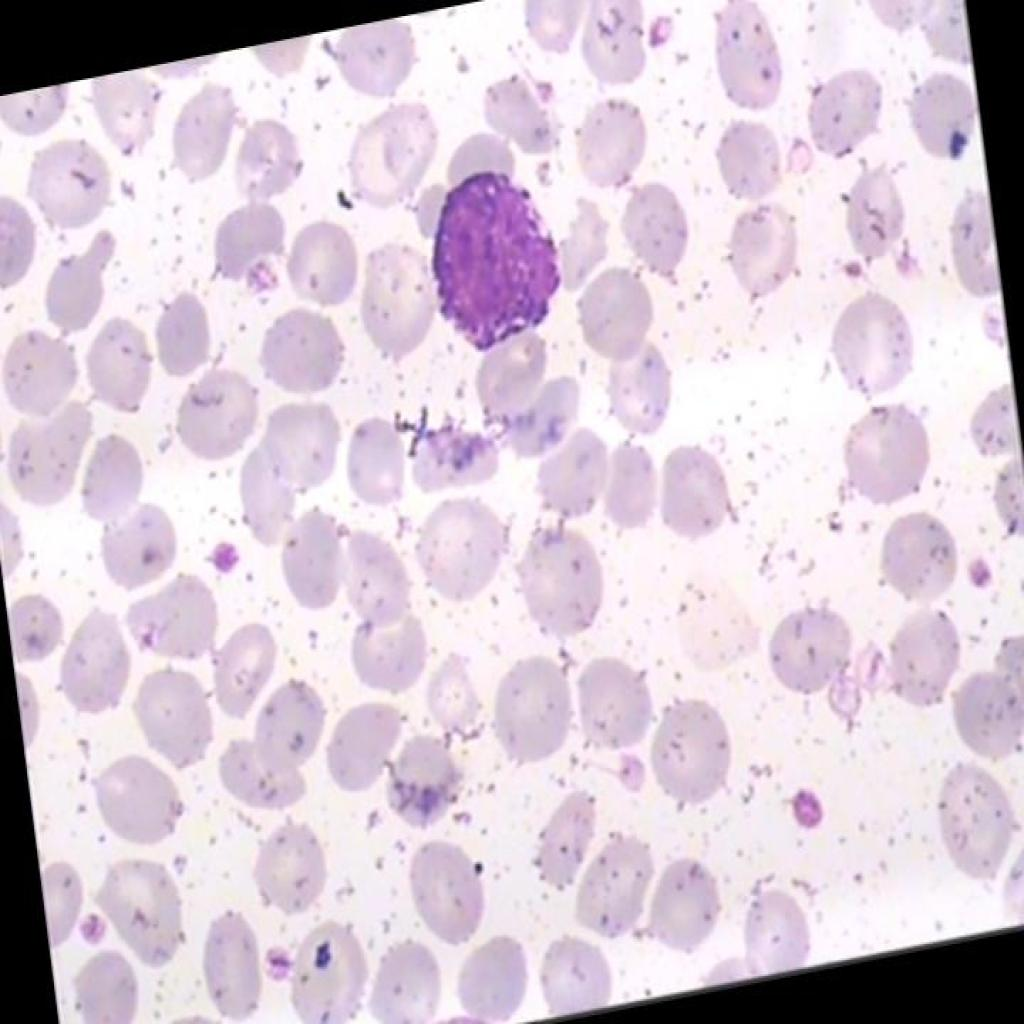Basofil: (403, 142, 573, 372)
Platelet: (188, 521, 247, 587), (57, 903, 112, 958), (954, 540, 997, 601), (780, 774, 820, 838), (244, 249, 282, 315), (637, 2, 686, 53)
